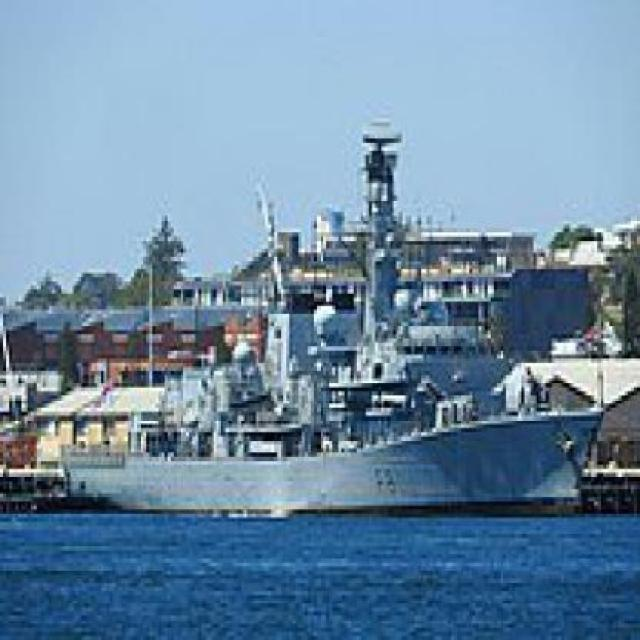warship2: (65, 144, 605, 527)
